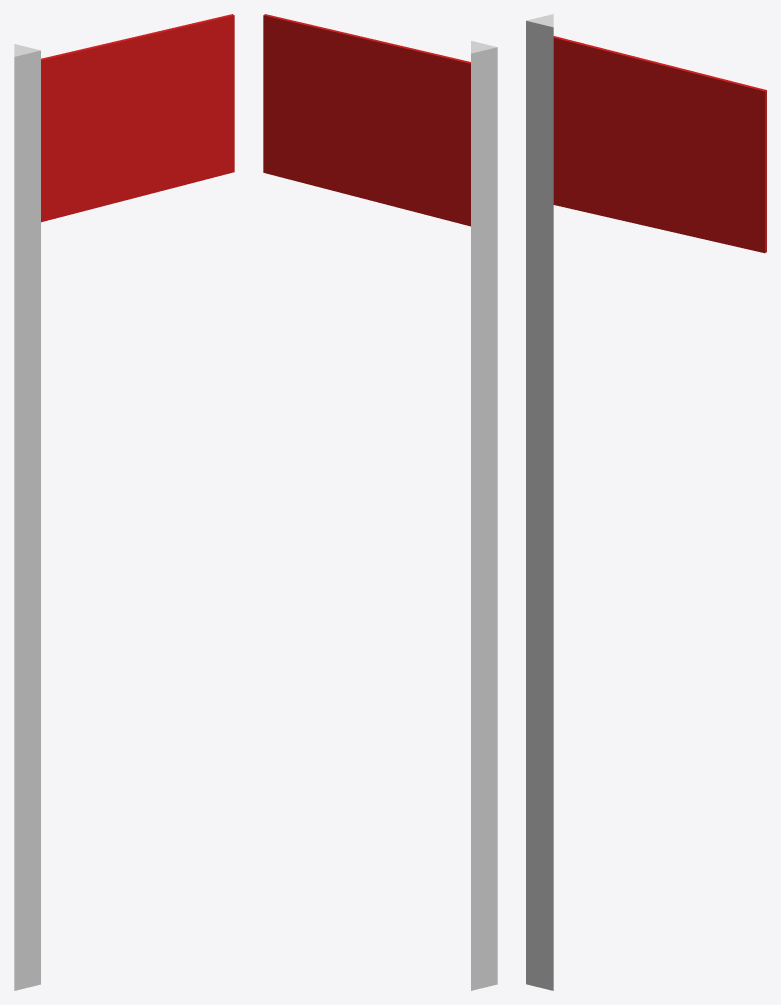
The model's file is GGJ_FlagMarkerMDL.fbx.
3 renders of one model, left to right at view 1: azimuth 30°, elevation 25°; view 2: azimuth 150°, elevation 25°; view 3: azimuth 330°, elevation 25°, orthographic. The views are drawn at different scales.
Parts seen in each view (by area): view 1: Cylinder; view 2: Cylinder; view 3: Cylinder.
Part boxes in pixels (x1,y1,x2,y2): Cylinder: [14, 14, 234, 990]; Cylinder: [263, 14, 497, 990]; Cylinder: [526, 14, 766, 990].
Size of the model in its own units: 73.44 by 290 by 7.5.
